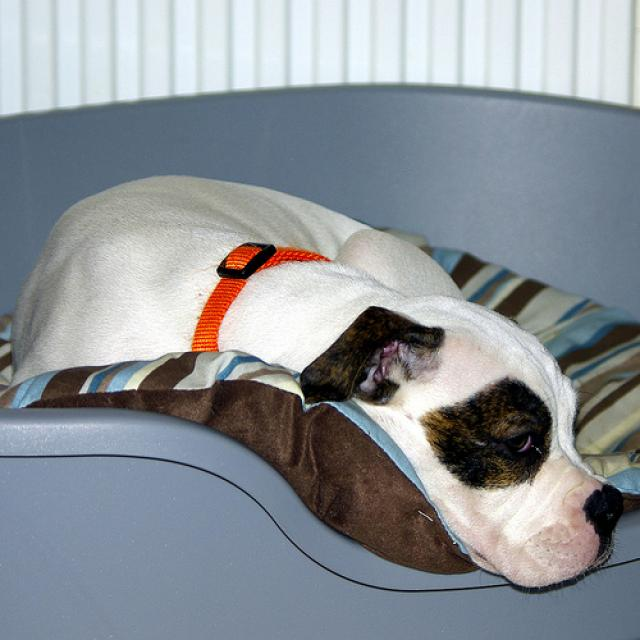dog-american_bulldog: (1, 166, 636, 593)
